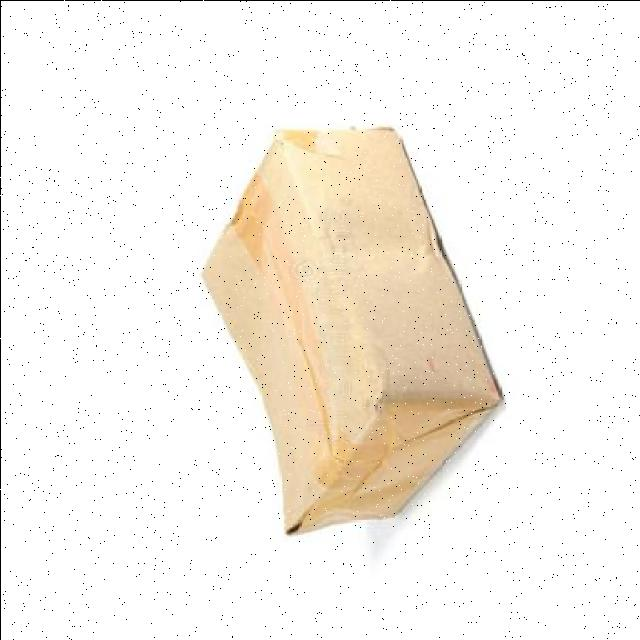defect: (198, 120, 502, 543)
